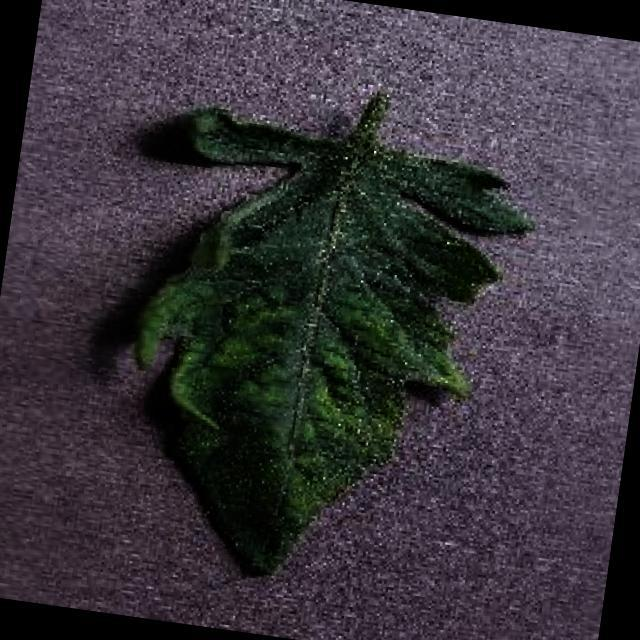Tomato mosaic virus leaf: (96, 95, 541, 612)
